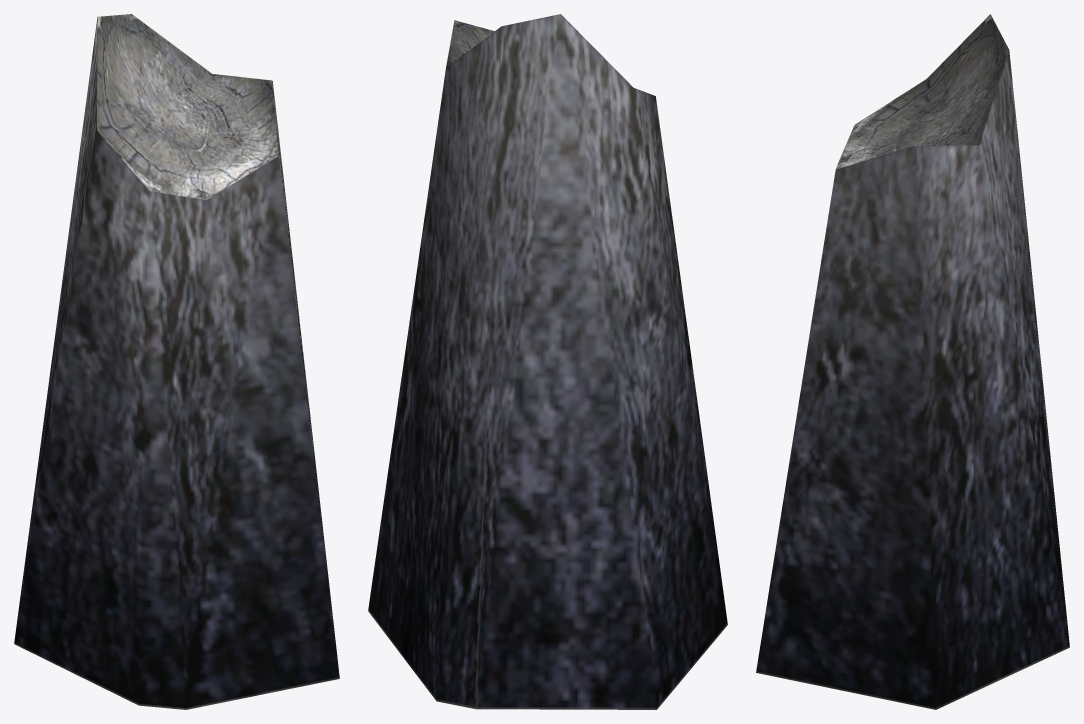
File: decd_massassistump_l2.fbx
3 renders of one model, left to right at view 1: azimuth 30°, elevation 25°; view 2: azimuth 150°, elevation 25°; view 3: azimuth 270°, elevation 25°, orthographic. The views are drawn at different scales.
Parts seen in each view (by area): view 1: mesh_node; view 2: mesh_node; view 3: mesh_node.
Part boxes in pixels (x1,y1,x2,y2): mesh_node: (14,14,339,709); mesh_node: (368,14,727,709); mesh_node: (756,14,1069,709).
Bounding box in the file's own units: 10.62 × 21.51 × 10.22.
